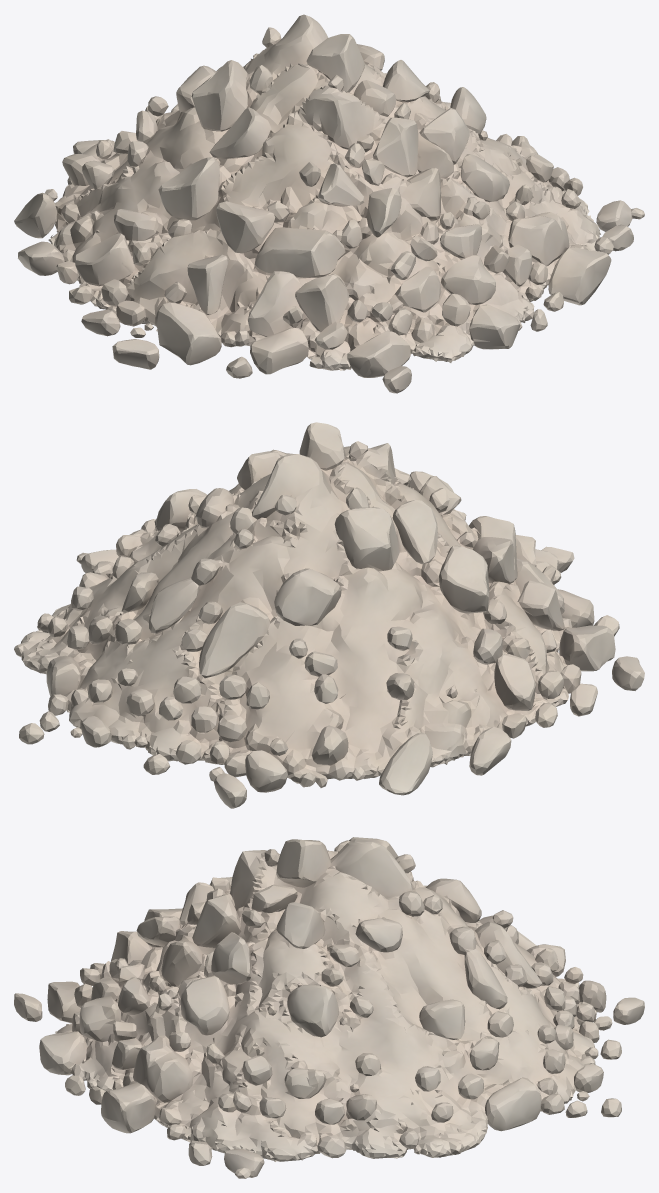
File: lod_basic_pbr.fbx
3 renders of one model, top to bottom at view 1: azimuth 30°, elevation 25°; view 2: azimuth 150°, elevation 25°; view 3: azimuth 270°, elevation 25°, orthographic. The views are drawn at different scales.
Parts seen in each view (by area): view 1: model_LOD0; view 2: model_LOD0; view 3: model_LOD0.
Boxes of the visible parts, <box> form: model_LOD0: <box>14,14,644,393</box>; model_LOD0: <box>14,422,644,808</box>; model_LOD0: <box>14,837,644,1178</box>.
Size of what is drawn, in the model's own units: 183 by 74.62 by 189.
1 material, 1 textured.
